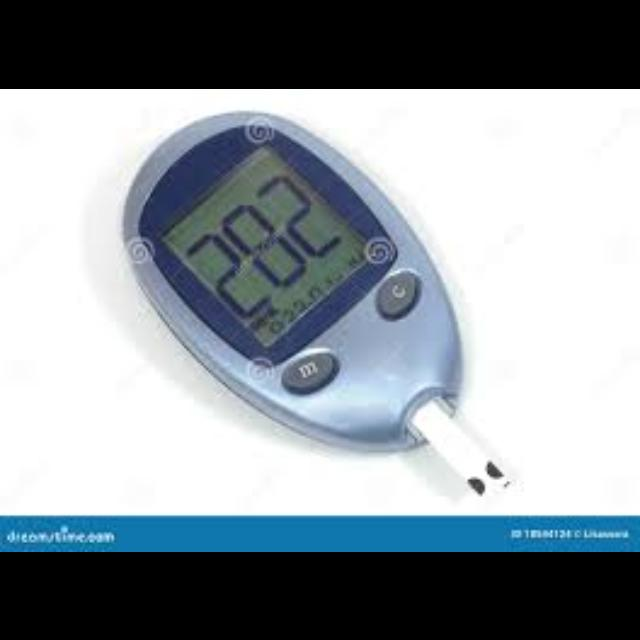Glucose-Meter: (122, 112, 506, 492)
